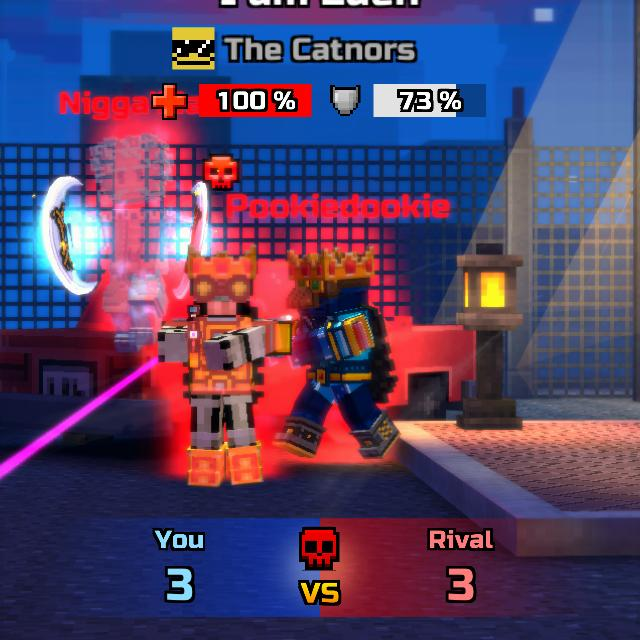Enemy: (157, 257, 292, 487), (272, 258, 401, 460), (89, 132, 194, 352)
